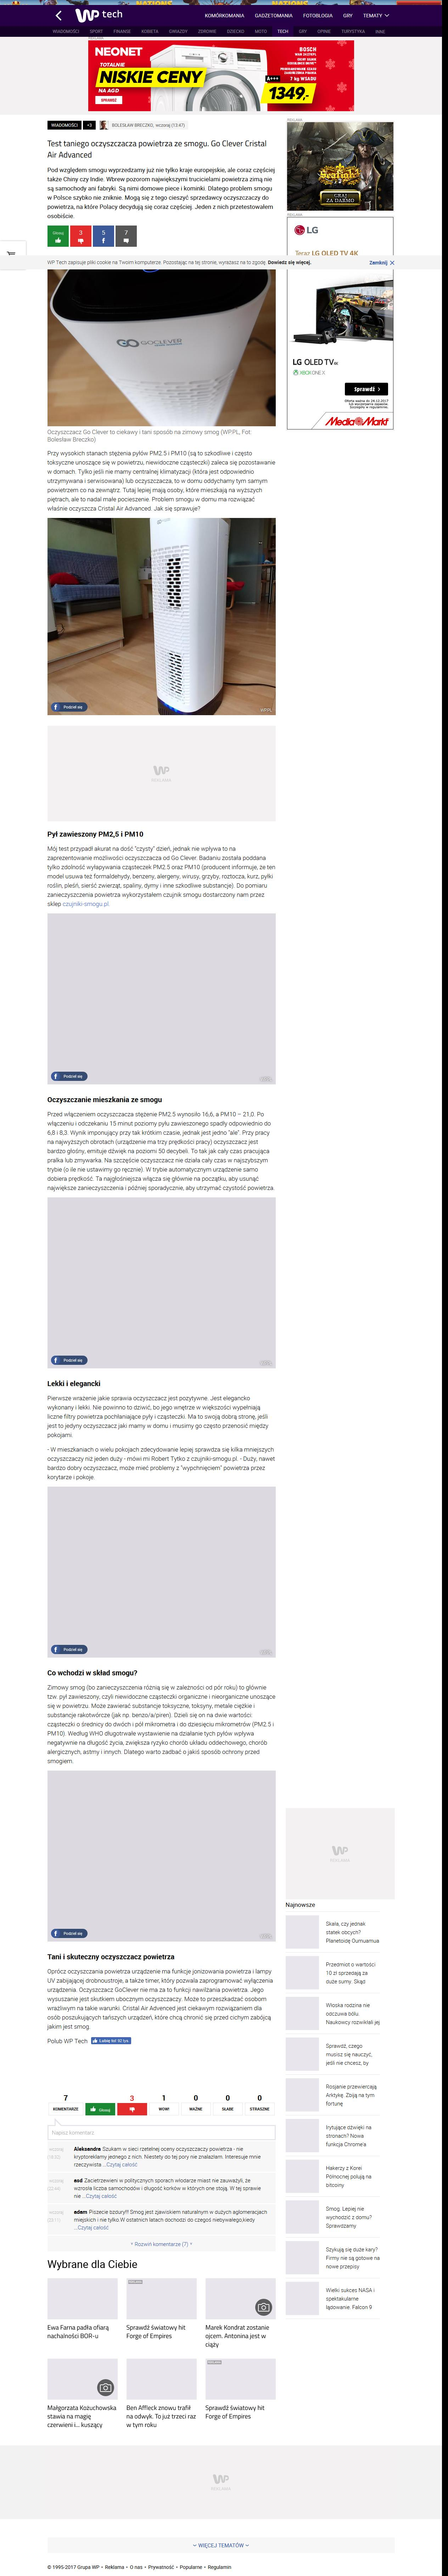title: (46, 140, 267, 159)
